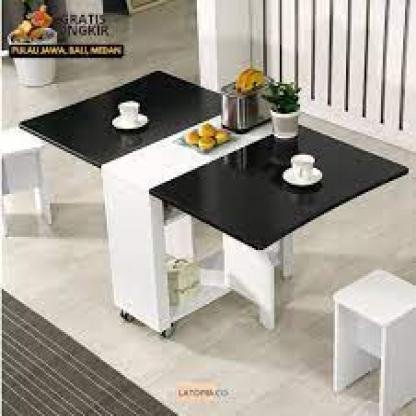Dining Table: (19, 100, 416, 414)
